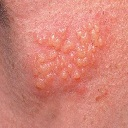Herpes Virus: (34, 26, 103, 89)
